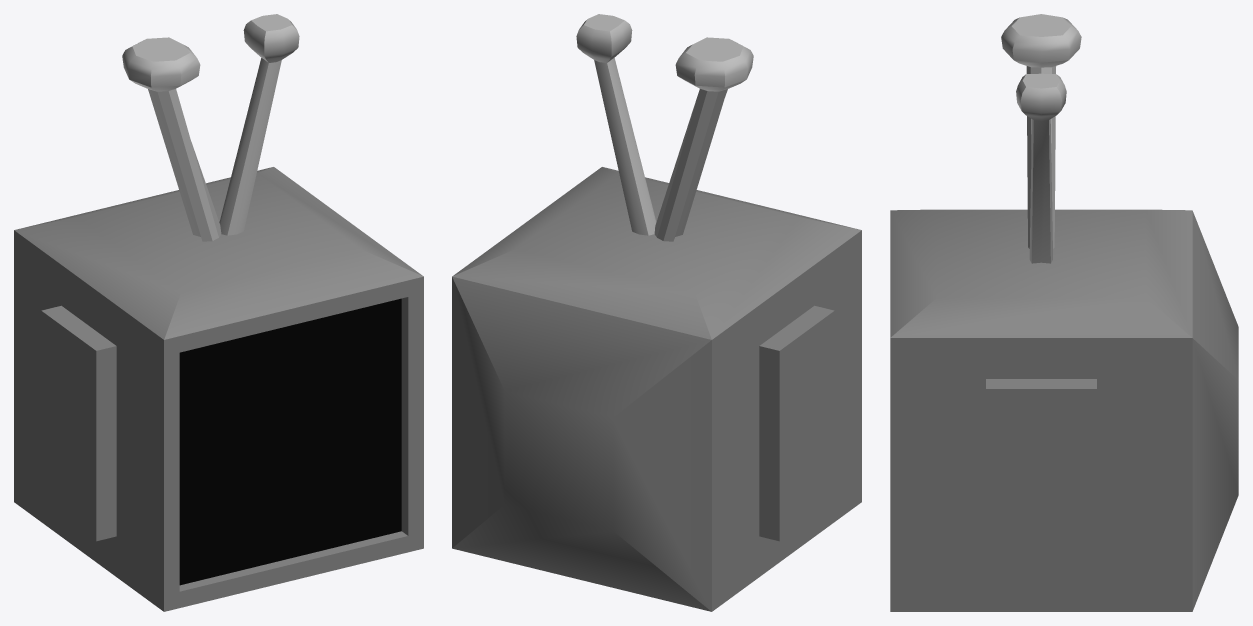
The picture shows the model from 3 angles, left to right: view 1: azimuth 30°, elevation 25°; view 2: azimuth 150°, elevation 25°; view 3: azimuth 270°, elevation 25°; orthographic projection.
Visible parts, largest first — view 1: Cube; view 2: Cube; view 3: Cube.
Part boxes in pixels (x1,y1,x2,y2): Cube: (14, 14, 423, 611); Cube: (452, 14, 861, 611); Cube: (890, 14, 1238, 611).
Bounding box in the file's own units: 1.03 × 1.6 × 1.03.
Materials: 3 (1 with a texture image).
